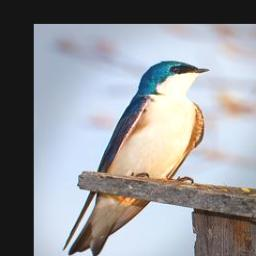Swallow: (61, 59, 211, 256)
